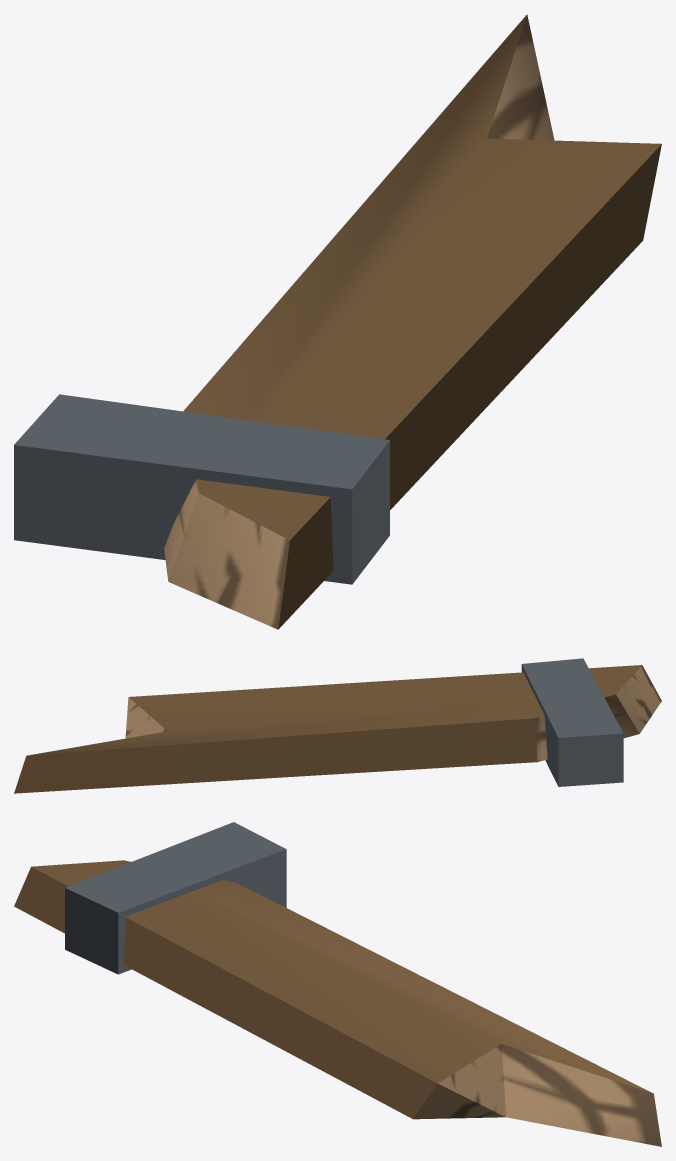
File: FX_wreck_B.FBX
The picture shows the model from 3 angles, top to bottom: view 1: azimuth 30°, elevation 25°; view 2: azimuth 150°, elevation 25°; view 3: azimuth 270°, elevation 25°; orthographic projection. The views are drawn at different scales.
Parts seen in each view (by area): view 1: FX_wreck_B; view 2: FX_wreck_B; view 3: FX_wreck_B.
Part boxes in pixels (x1,y1,x2,y2): FX_wreck_B: [14, 14, 661, 629]; FX_wreck_B: [14, 658, 661, 793]; FX_wreck_B: [14, 822, 661, 1146].
Size of the model in its own units: 44.01 by 4.69 by 44.54.
Materials: 1 (1 with a texture image).
